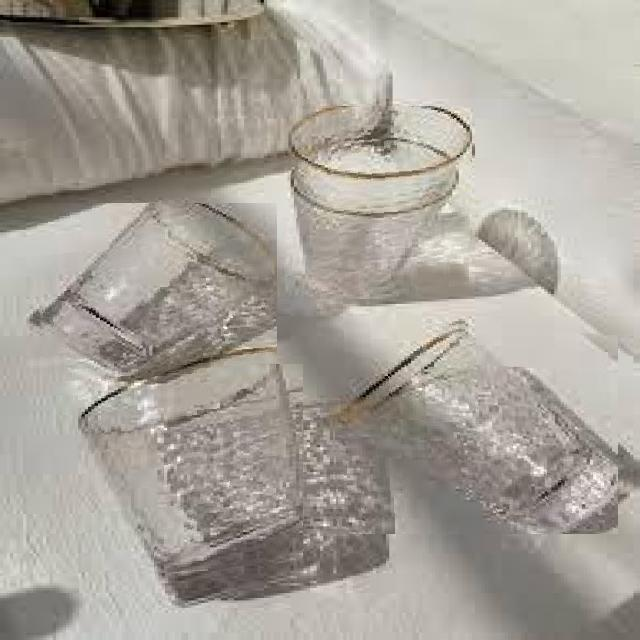Glass: (328, 318, 618, 534), (75, 364, 304, 580), (29, 204, 278, 384), (286, 106, 474, 297)
